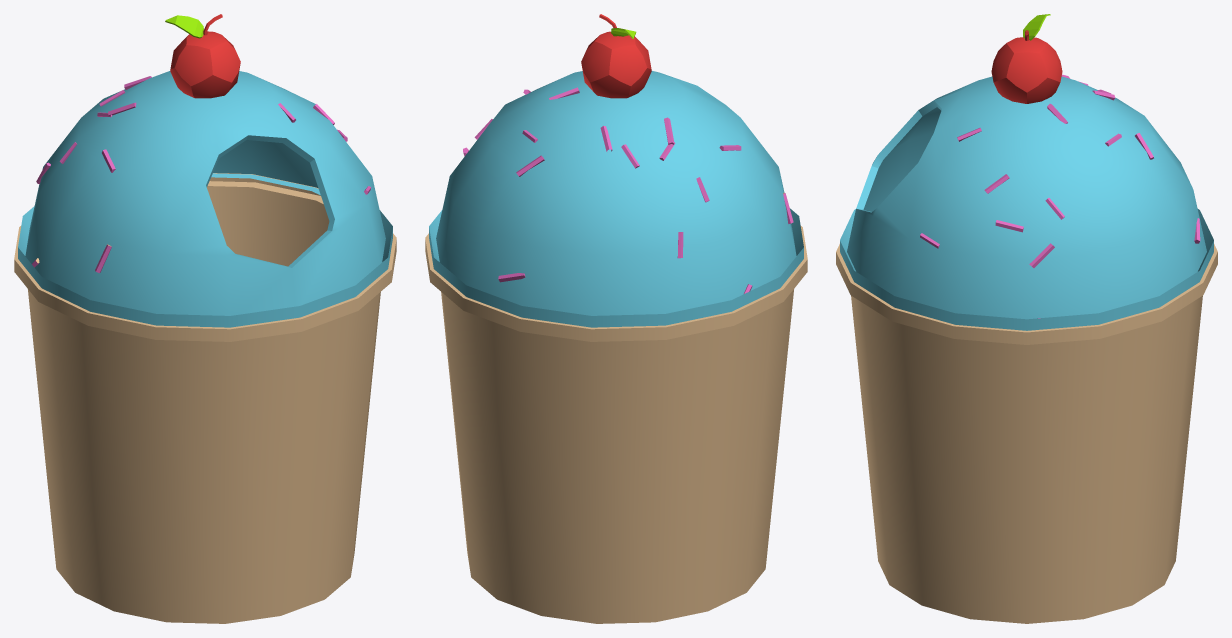
File: garden-trash-can.glb
3 renders of one model, left to right at view 1: azimuth 30°, elevation 25°; view 2: azimuth 150°, elevation 25°; view 3: azimuth 270°, elevation 25°, orthographic.
Parts seen in each view (by area): view 1: cupcake-bin; view 2: cupcake-bin; view 3: cupcake-bin.
Boxes of the visible parts, left/top/right/bottom form: cupcake-bin: left=14, top=14, right=396, bottom=623; cupcake-bin: left=425, top=14, right=807, bottom=623; cupcake-bin: left=836, top=14, right=1217, bottom=623.
Size of what is drawn, in the model's own units: 0.7227 by 1.12 by 0.7227.
